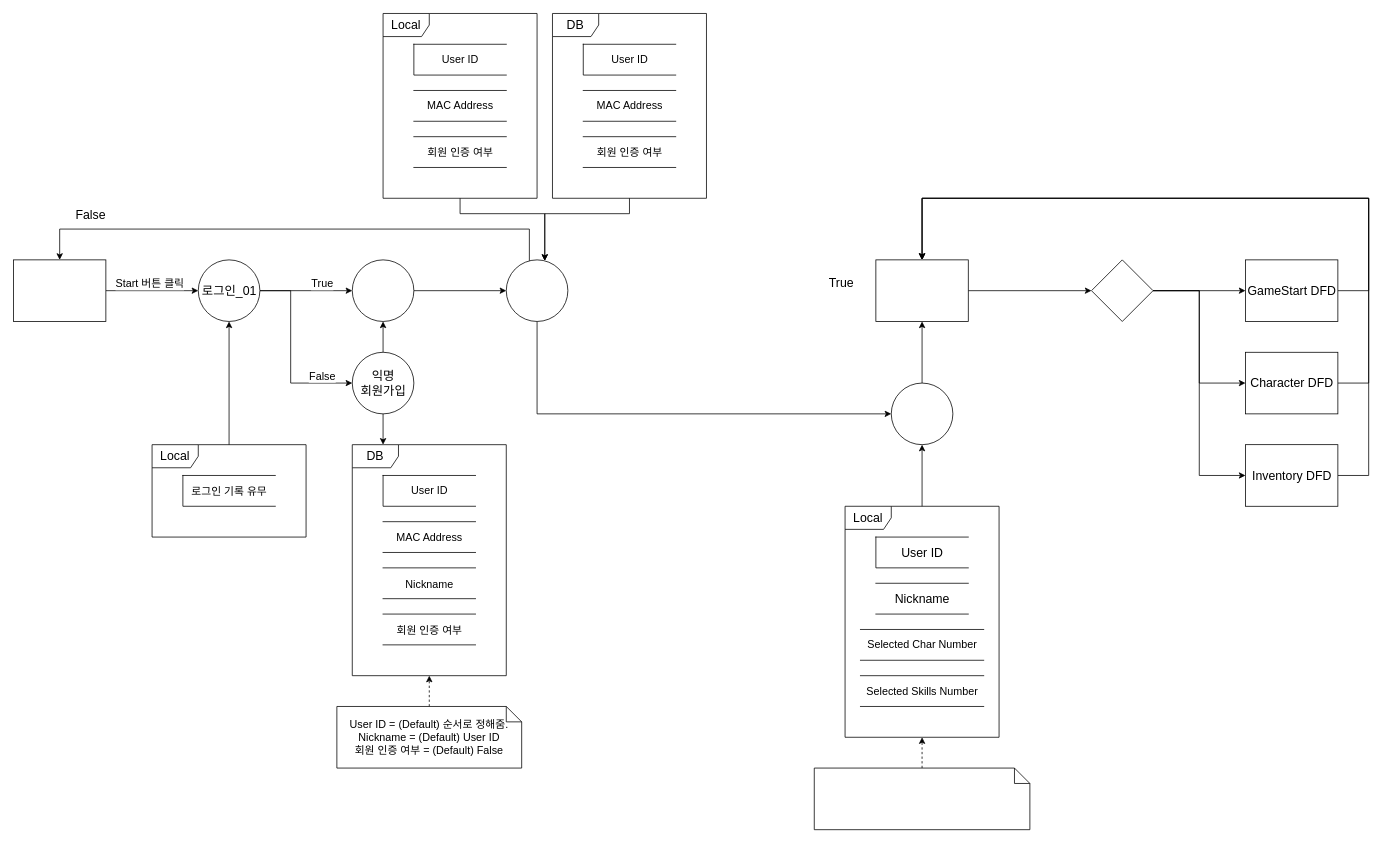
The diagram is 1388 pixels wide and 843 high, and some of its shapes have lost their labels. Here are the shapes that lost their labels. From the top down, the centre of each, then its label:
the point at 59,290: 로그인 화면
the point at 383,290: 로그인_02
the point at 537,290: 데이터 비교
the point at 921,290: 게임 로비 화면
the point at 922,413: 기본 정보 출력
the point at 922,798: Seleted Char Number = (Default) 01 selected Skills Number[] = (Default) {01, 02}
